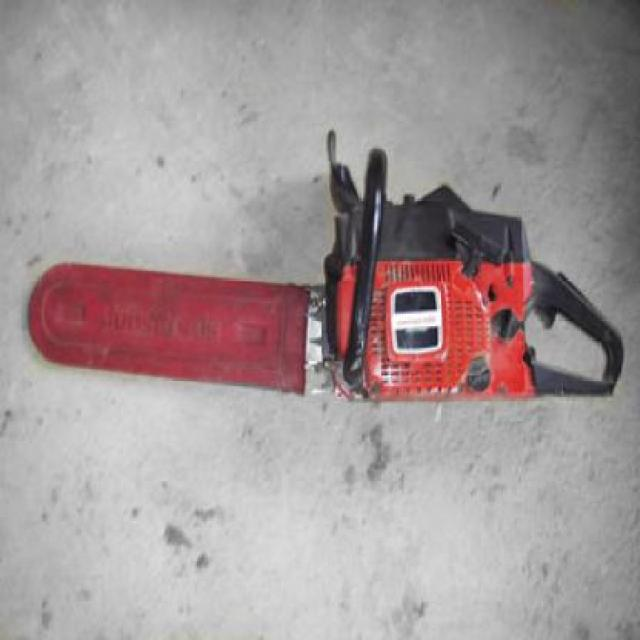Chainsaw: (32, 128, 618, 412)
